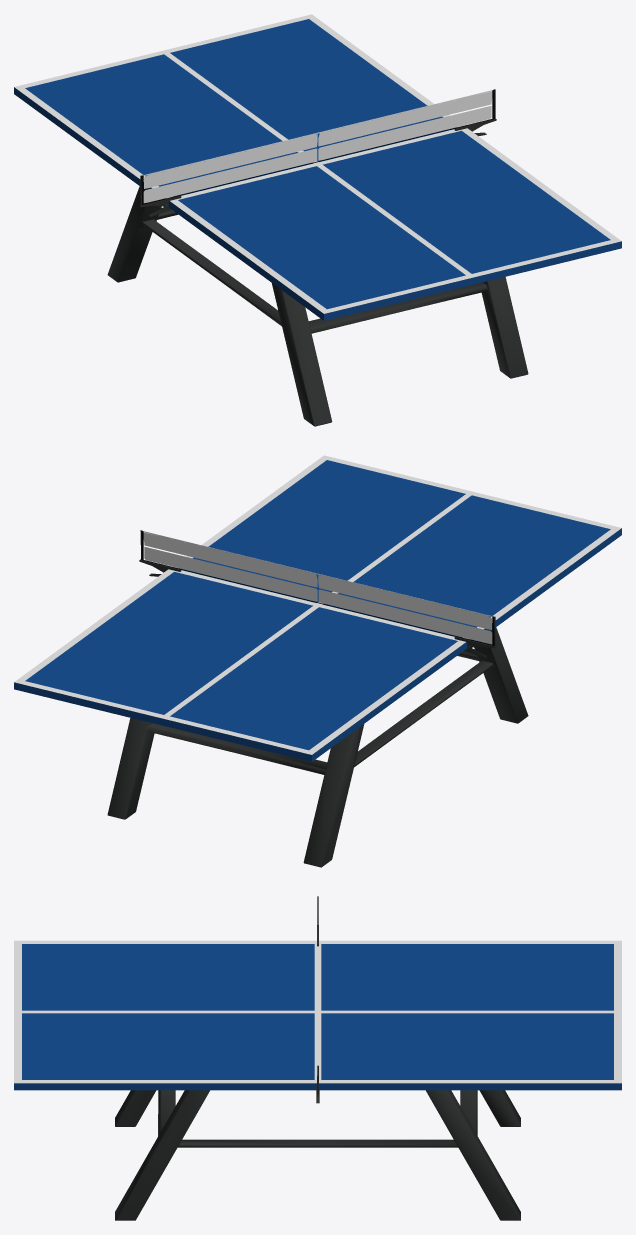
Rendered from table-tennis.glb.
3 renders of one model, top to bottom at view 1: azimuth 30°, elevation 25°; view 2: azimuth 150°, elevation 25°; view 3: azimuth 270°, elevation 25°, orthographic.
Visible parts, largest first — view 1: Table_0, Legs_5, Net_3, NetBorder_4; view 2: Table_0, Legs_5, Net_3, NetBorder_4; view 3: Table_0, Legs_5.
Part boxes in pixels (x1,y1,x2,y2): Table_0: [14, 14, 621, 320]; Legs_5: [107, 186, 528, 426]; Net_3: [143, 91, 492, 203]; NetBorder_4: [141, 89, 494, 204]; Table_0: [14, 455, 621, 761]; Legs_5: [107, 627, 528, 867]; Net_3: [143, 532, 492, 644]; NetBorder_4: [141, 530, 494, 646]; Table_0: [14, 940, 621, 1090]; Legs_5: [115, 1090, 520, 1220].
Size of the model in its own units: 1.47 by 0.76 by 2.22.
